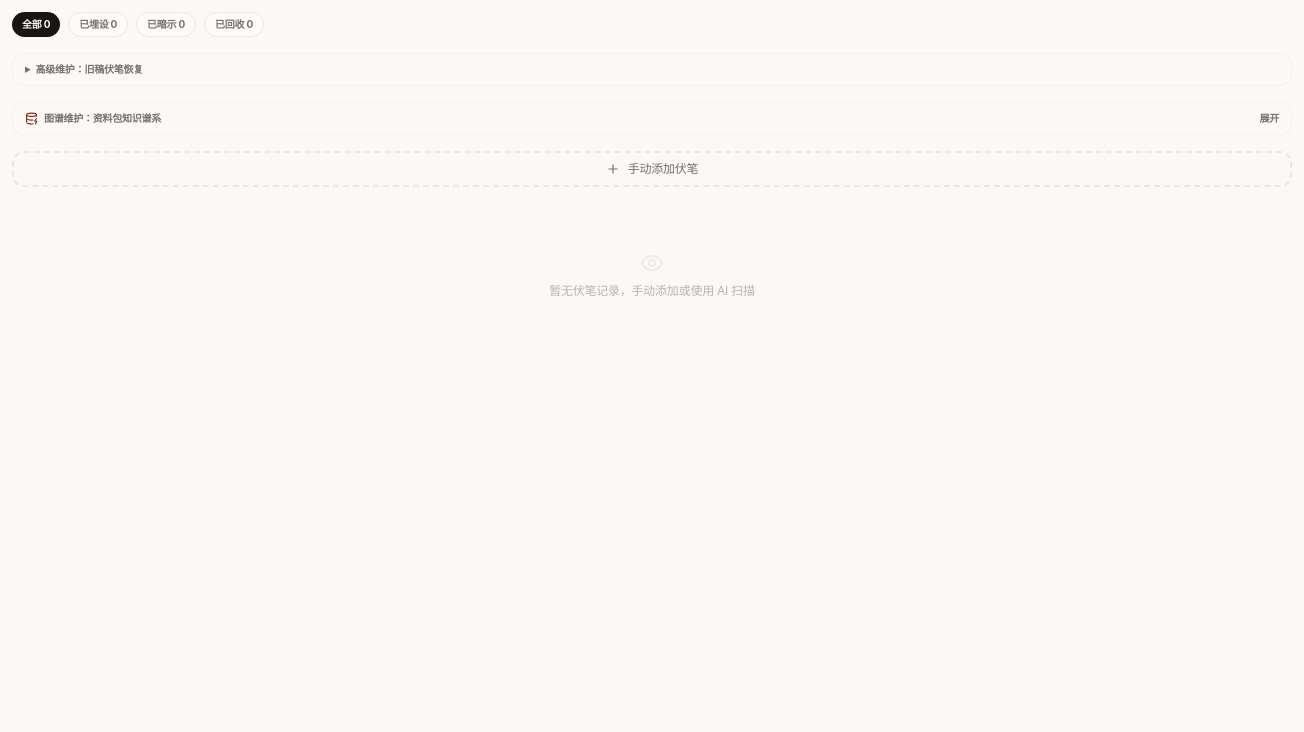
ForeshadowingPanel 图谱维护入口（D2） › 重跑以 novelId 调内核，成功后刷新伏笔列表
Click the button "图谱维护：资料包知识谱系 展开": (103, 118) [13, 103, 1291, 134]
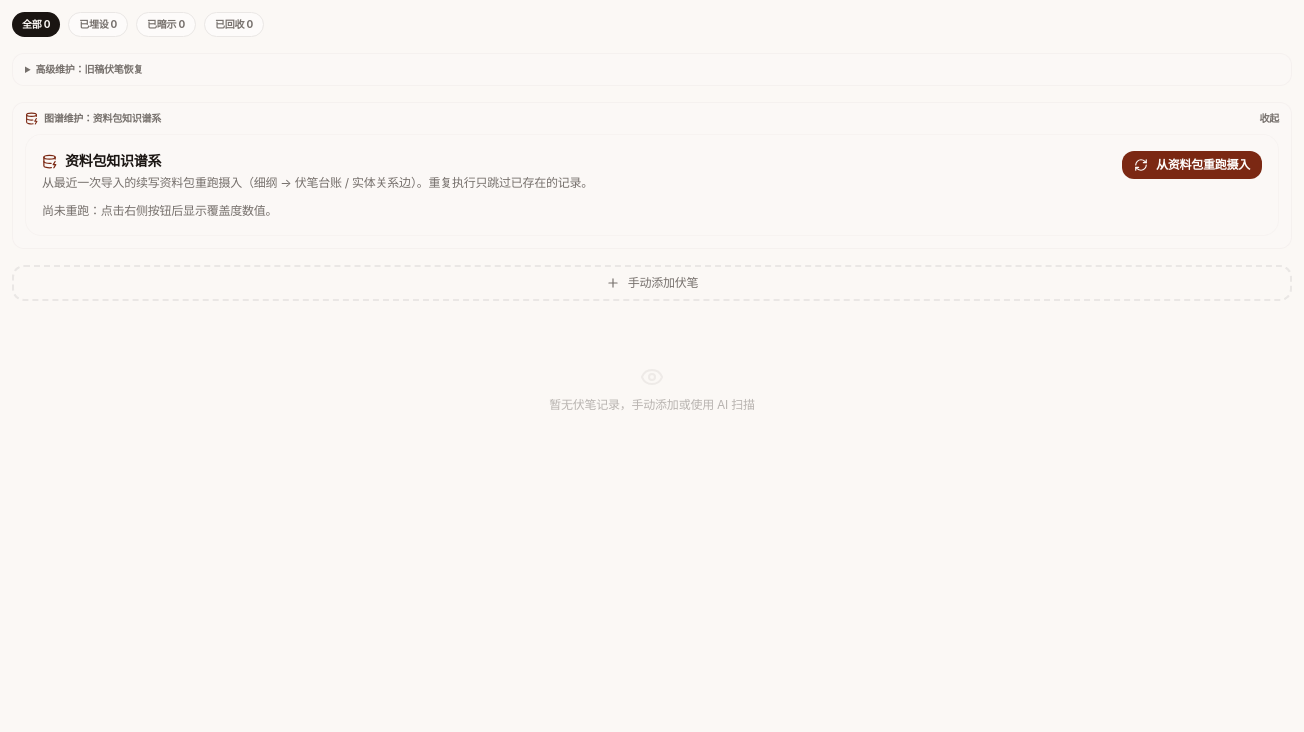
Click the button "从资料包重跑摄入": (1192, 165) [1122, 151, 1262, 179]
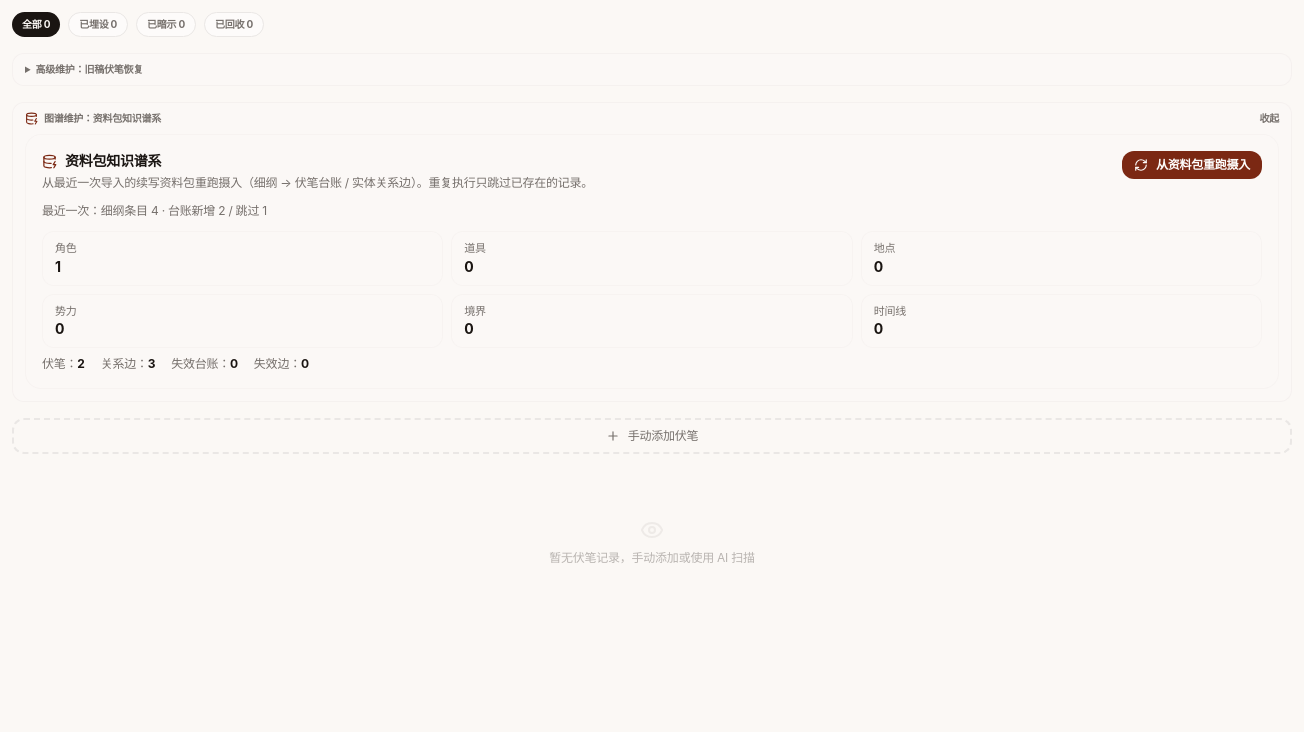
Now the text "最近一次：细纲条目 4 · 台账新增 2 / 跳过 1" is shown, box [42, 203, 267, 218]
